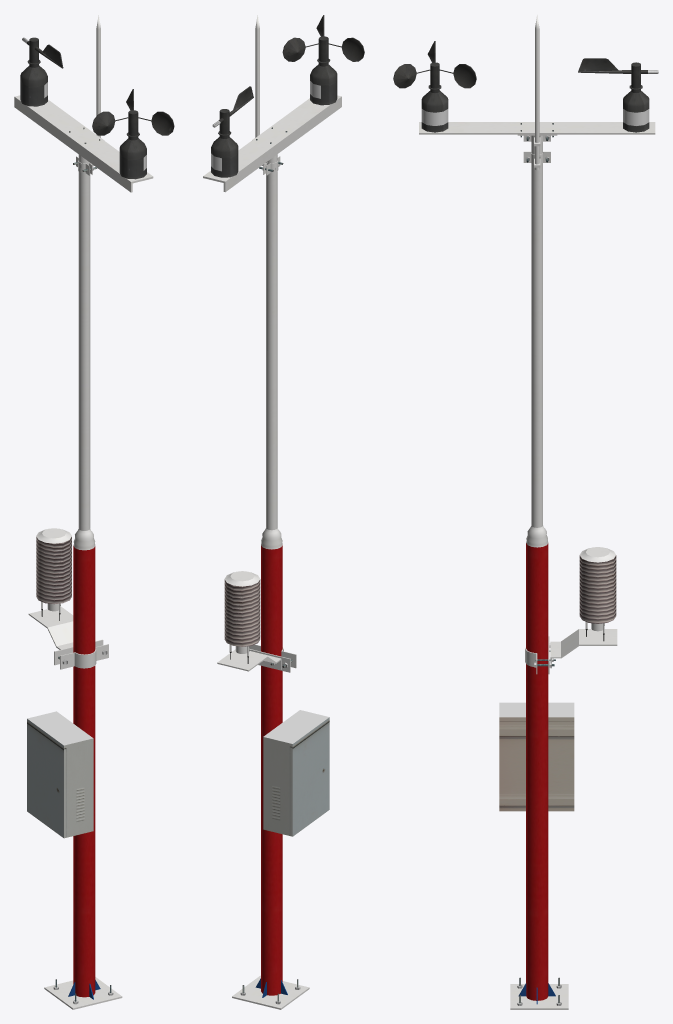
Rendered from FengXiangBiao.FBX.
The picture shows the model from 3 angles, left to right: view 1: azimuth 30°, elevation 25°; view 2: azimuth 150°, elevation 25°; view 3: azimuth 270°, elevation 25°; orthographic projection.
Visible parts, largest first — view 1: FengXiangBiao; view 2: FengXiangBiao; view 3: FengXiangBiao.
Part boxes in pixels (x1,y1,x2,y2): FengXiangBiao: [14, 15, 174, 1009]; FengXiangBiao: [203, 15, 364, 1009]; FengXiangBiao: [393, 15, 658, 1009].
Size of the model in its own units: 29.61 by 412 by 99.99.
